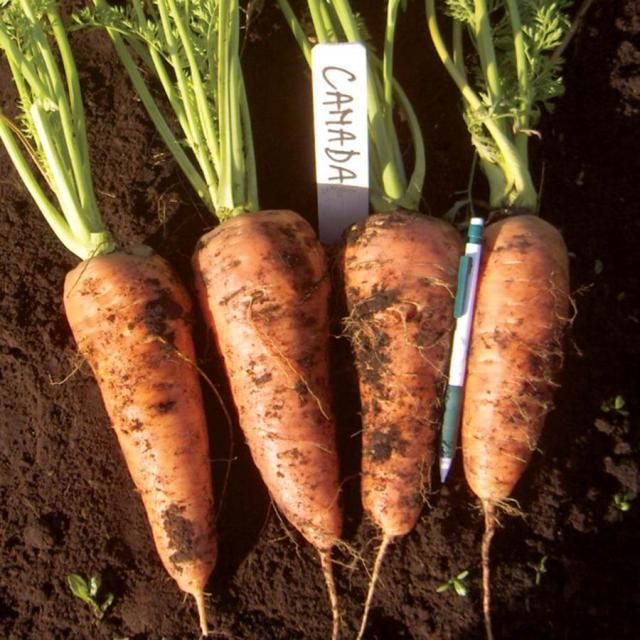carrot: (54, 234, 214, 603), (186, 199, 340, 556), (342, 209, 454, 539), (455, 212, 571, 512)
